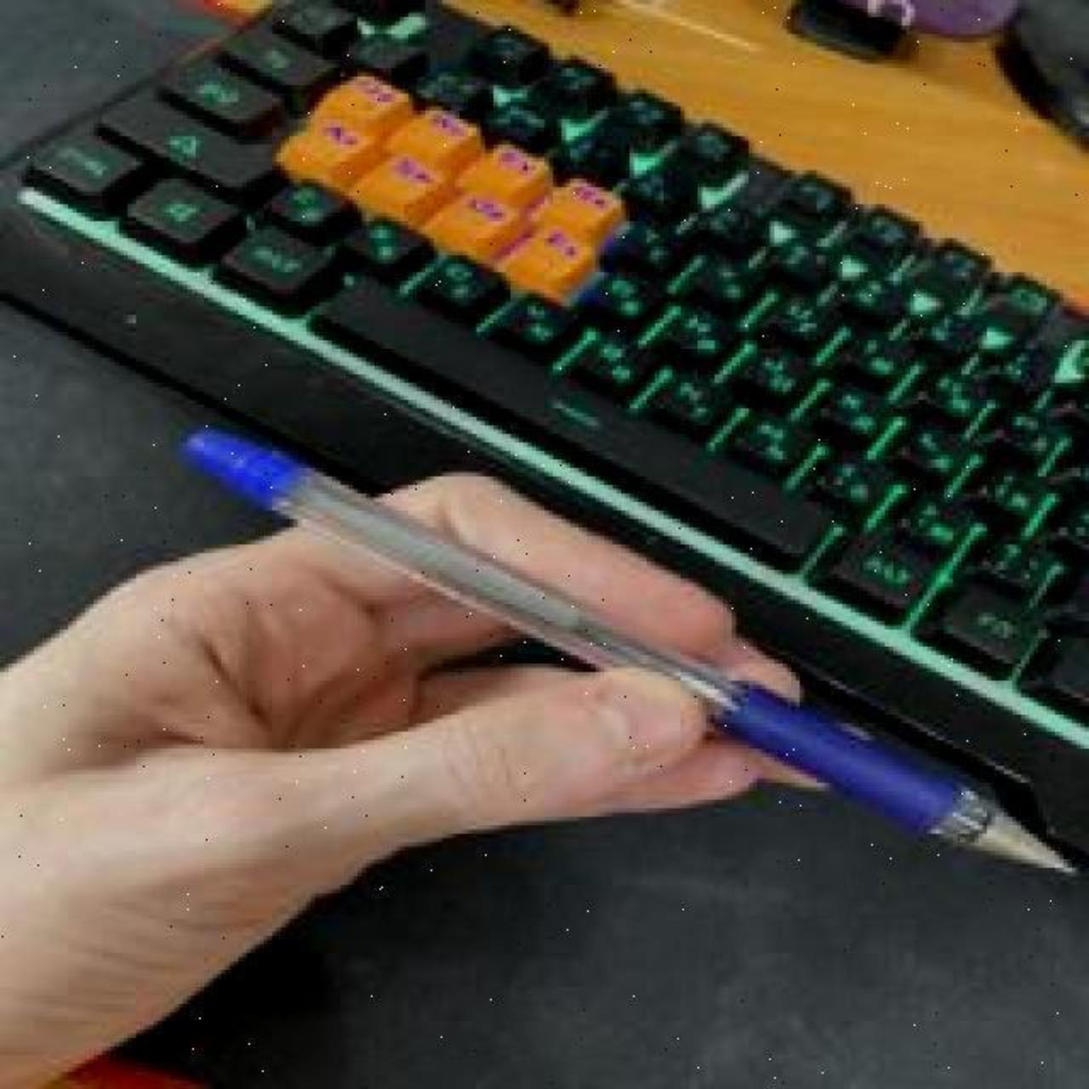pen: (182, 425, 1080, 876)
